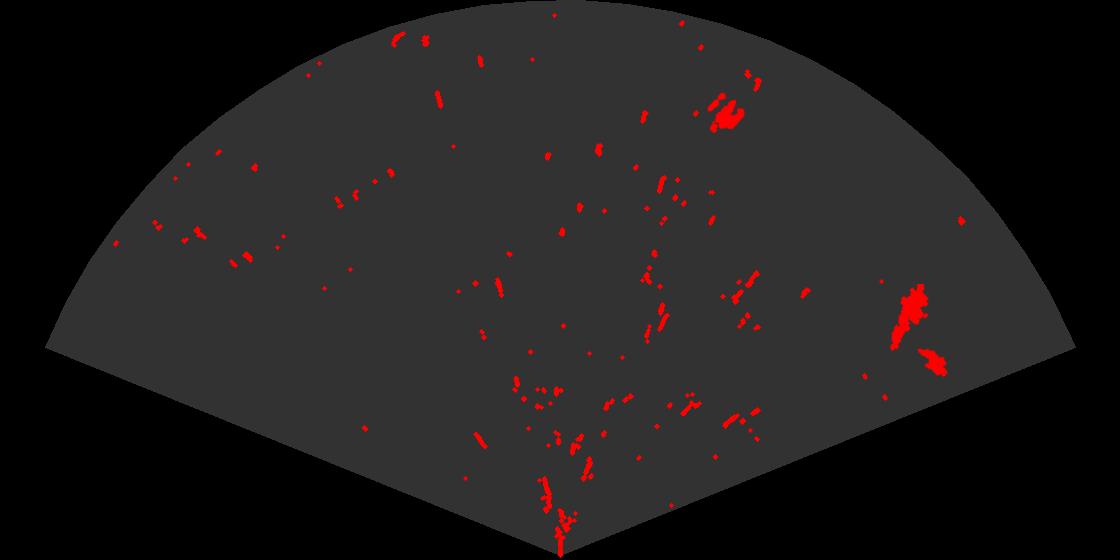AUV: (916, 347, 949, 379)
ball: (706, 91, 747, 131)
frogman: (889, 284, 930, 353)
